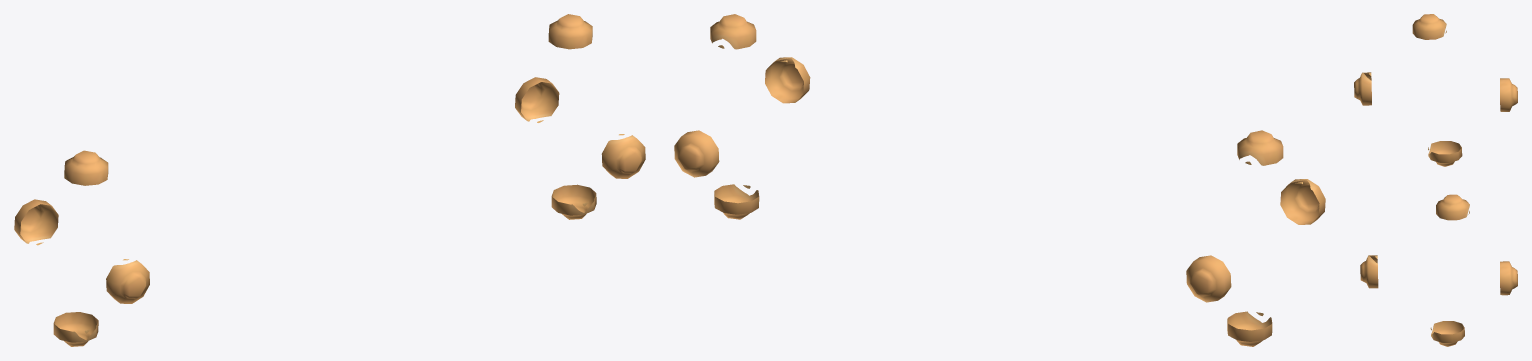
3 renders of one model, left to right at view 1: azimuth 30°, elevation 25°; view 2: azimuth 150°, elevation 25°; view 3: azimuth 270°, elevation 25°, orthographic. The views are drawn at different scales.
Parts seen in each view (by area): view 1: SM_BB_T4_Barricade_LOD0; view 2: SM_BB_T4_Barricade_LOD0; view 3: SM_BB_T4_Barricade_LOD0.
Part boxes in pixels (left/top/right/bottom): SM_BB_T4_Barricade_LOD0: left=14, top=14, right=645, bottom=346; SM_BB_T4_Barricade_LOD0: left=674, top=14, right=1325, bottom=346; SM_BB_T4_Barricade_LOD0: left=1354, top=14, right=1517, bottom=346.
Size of the model in its own units: 0.859 by 0.3031 by 0.3016.
